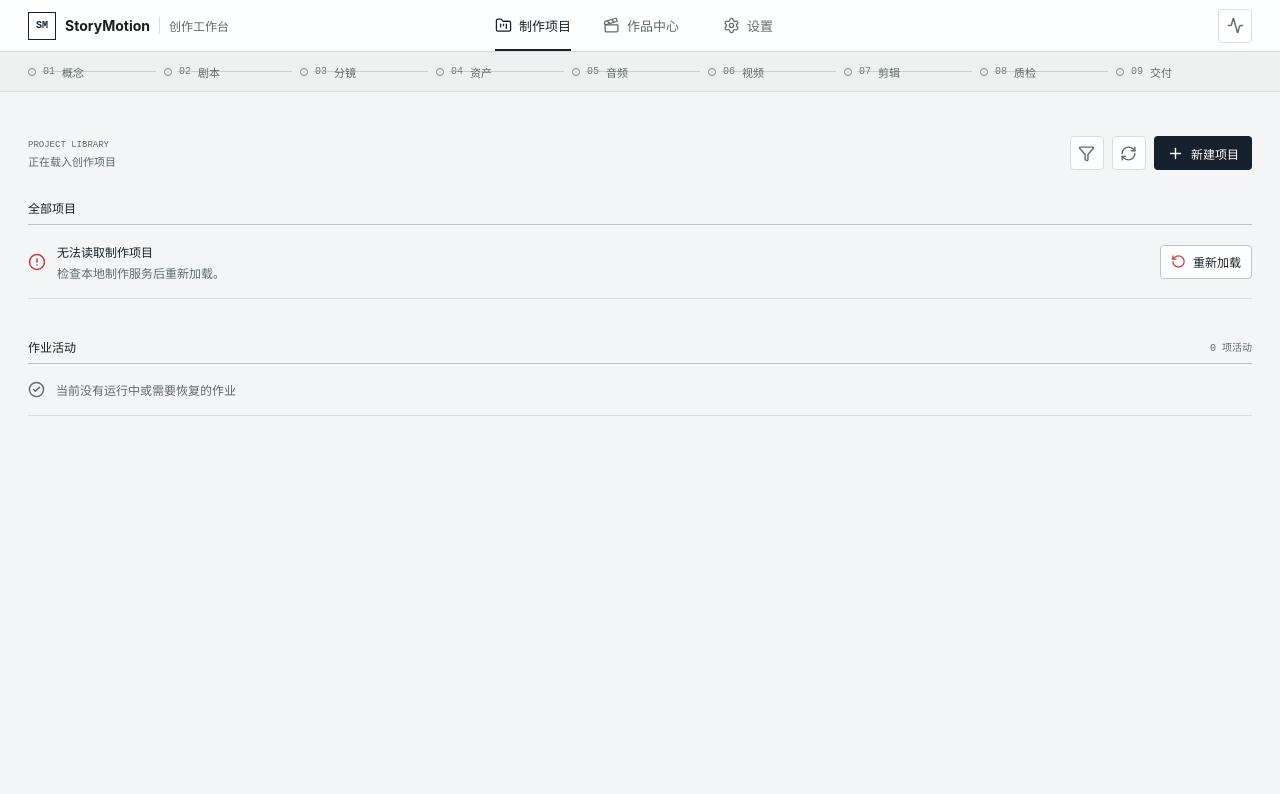
Test case: production workbench shell › offers a retry after a project load failure
expect the text "无法读取制作项目" is shown: met, box left=57, top=244, right=153, bottom=260
Click the button "重新加载".
click(1206, 262)  # box left=1160, top=244, right=1252, bottom=278
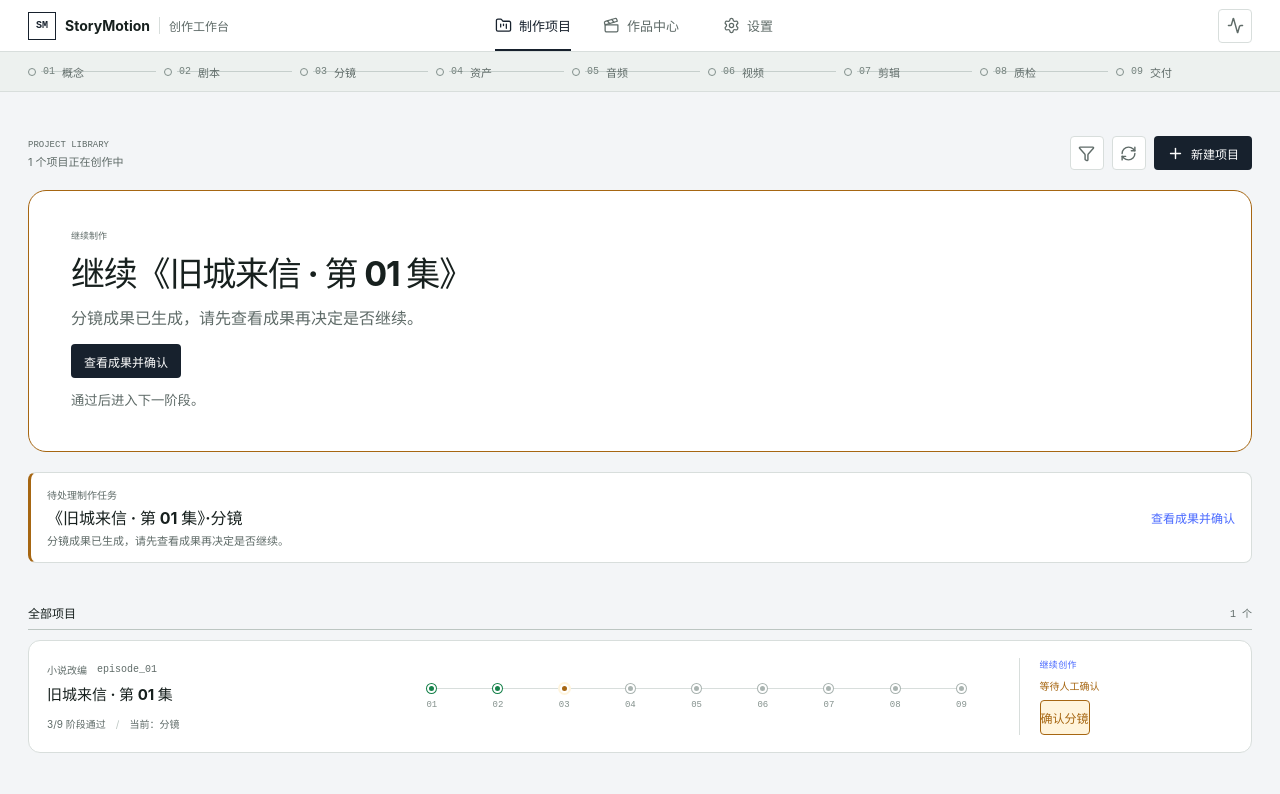
expect the link "旧城来信 · 第 01 集" is shown: met, box left=47, top=685, right=173, bottom=704
